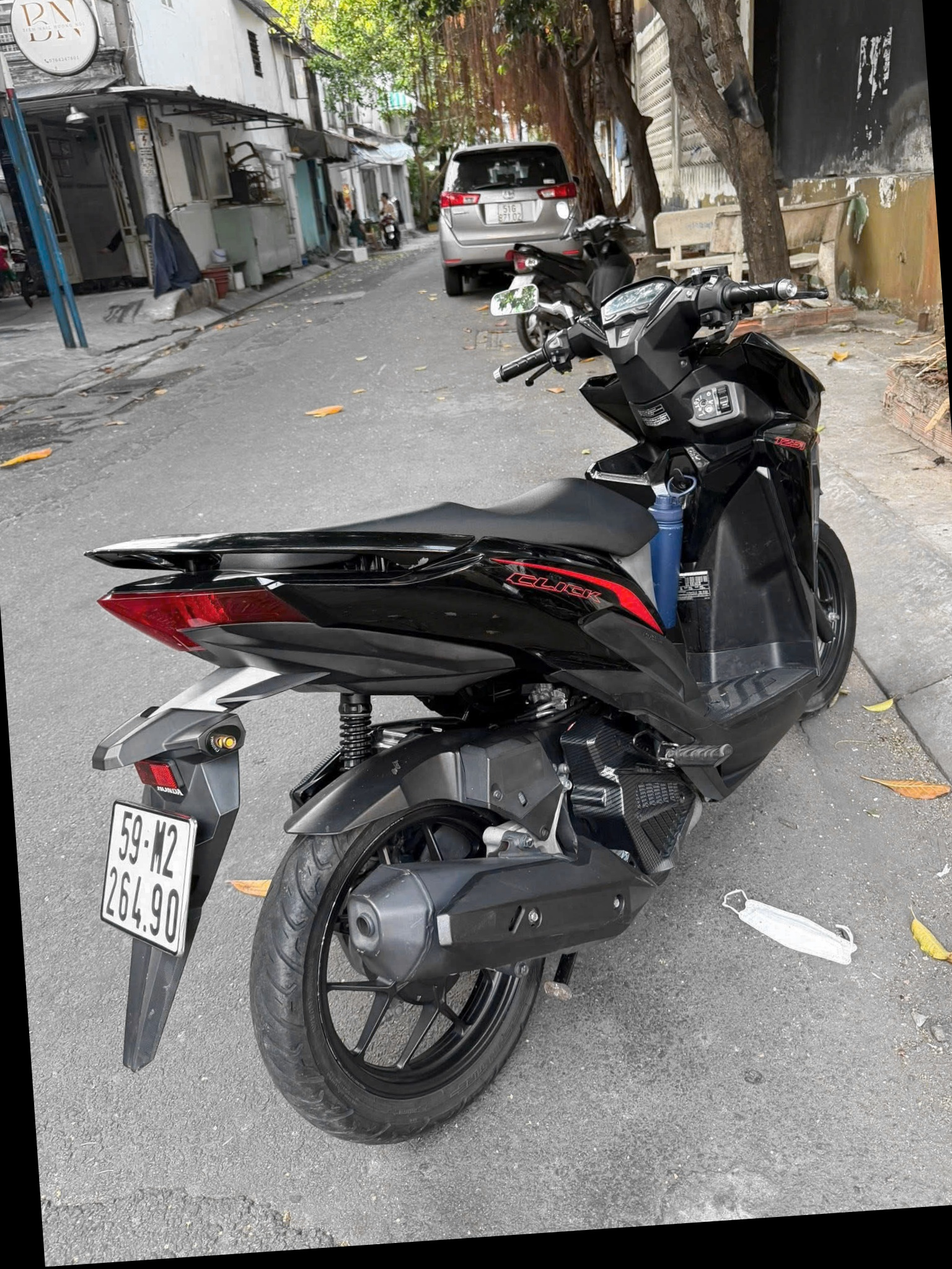Bien-so: (90, 793, 205, 975), (499, 198, 527, 225)
